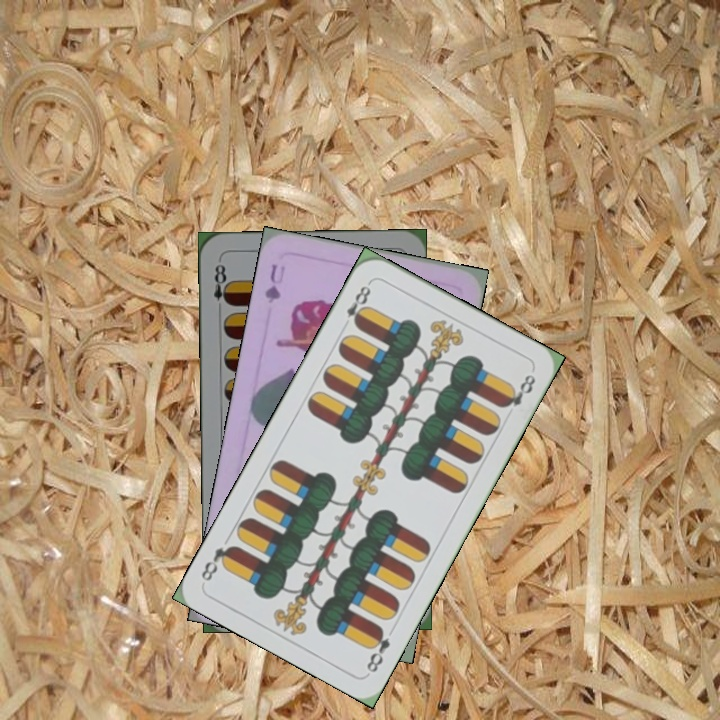E8: (338, 278, 374, 332), (362, 623, 393, 676), (210, 260, 233, 316)
GU: (260, 260, 288, 306)
